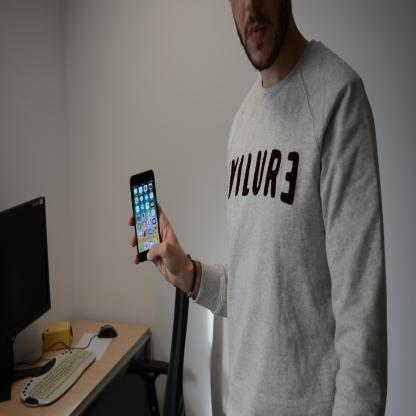smartphone: (129, 168, 162, 263)
